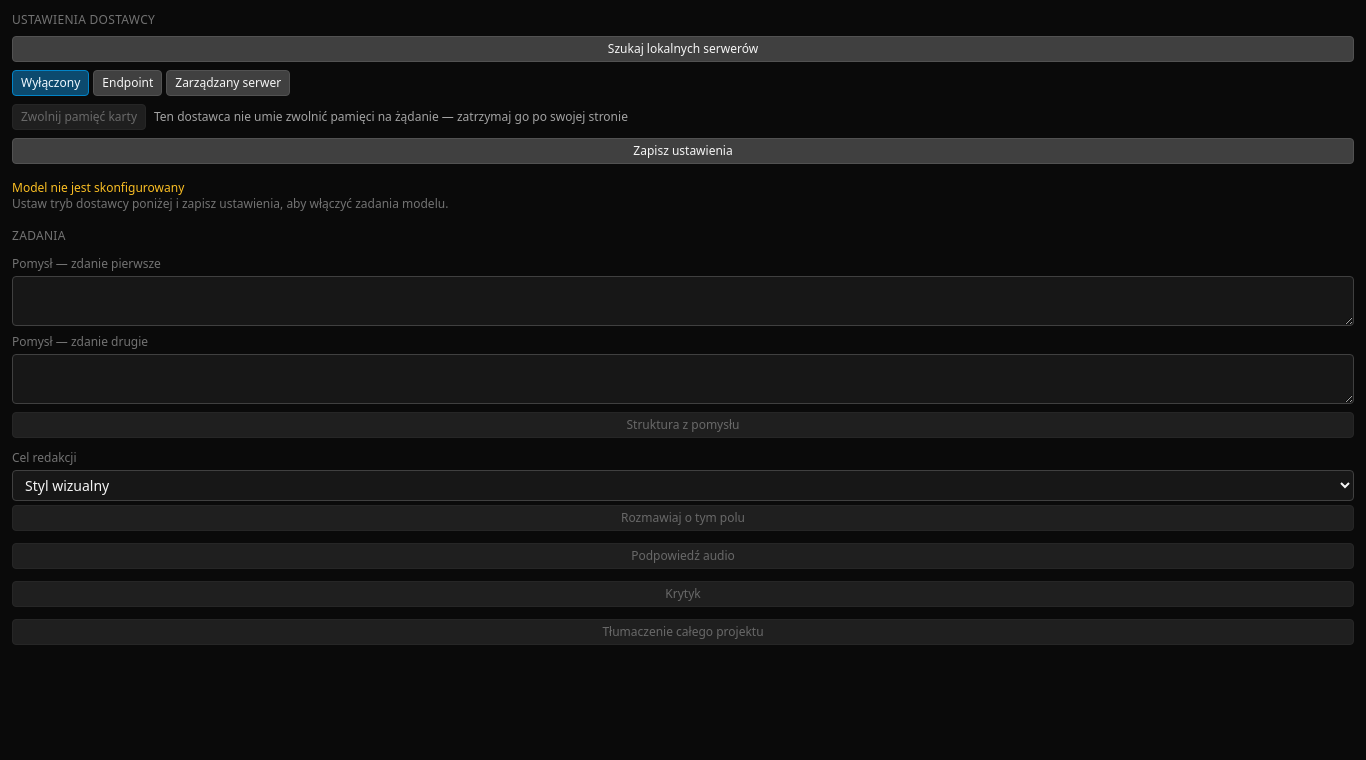
Test: LlmPanel — stan bez skonfigurowanego modelu › wpisanie adresu endpointu BEZ zapisania nie odblokowuje zadań ani nie chowa ostrzeżenia — dopiero zapis to robi
The width and height of the screenshot is (1366, 760).
Expected: the text "Model nie jest skonfigurowany" is shown, [12,179,184,196]
Click the button "Endpoint". click: [128, 83]
box: [93,70,162,96]
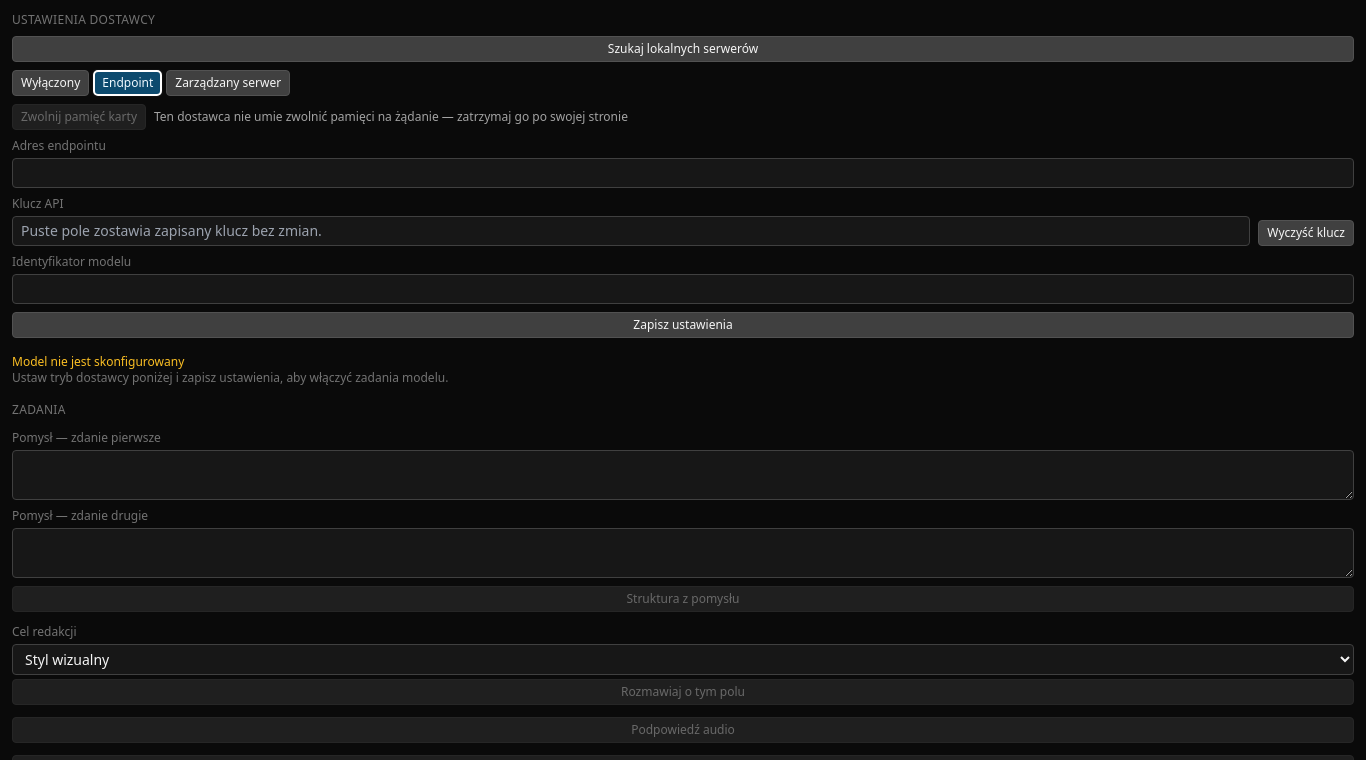
Type "http://localhost:1234/v1" into the field labelled "Adres endpointu". click: [683, 173]
box: [12,158,1354,188]
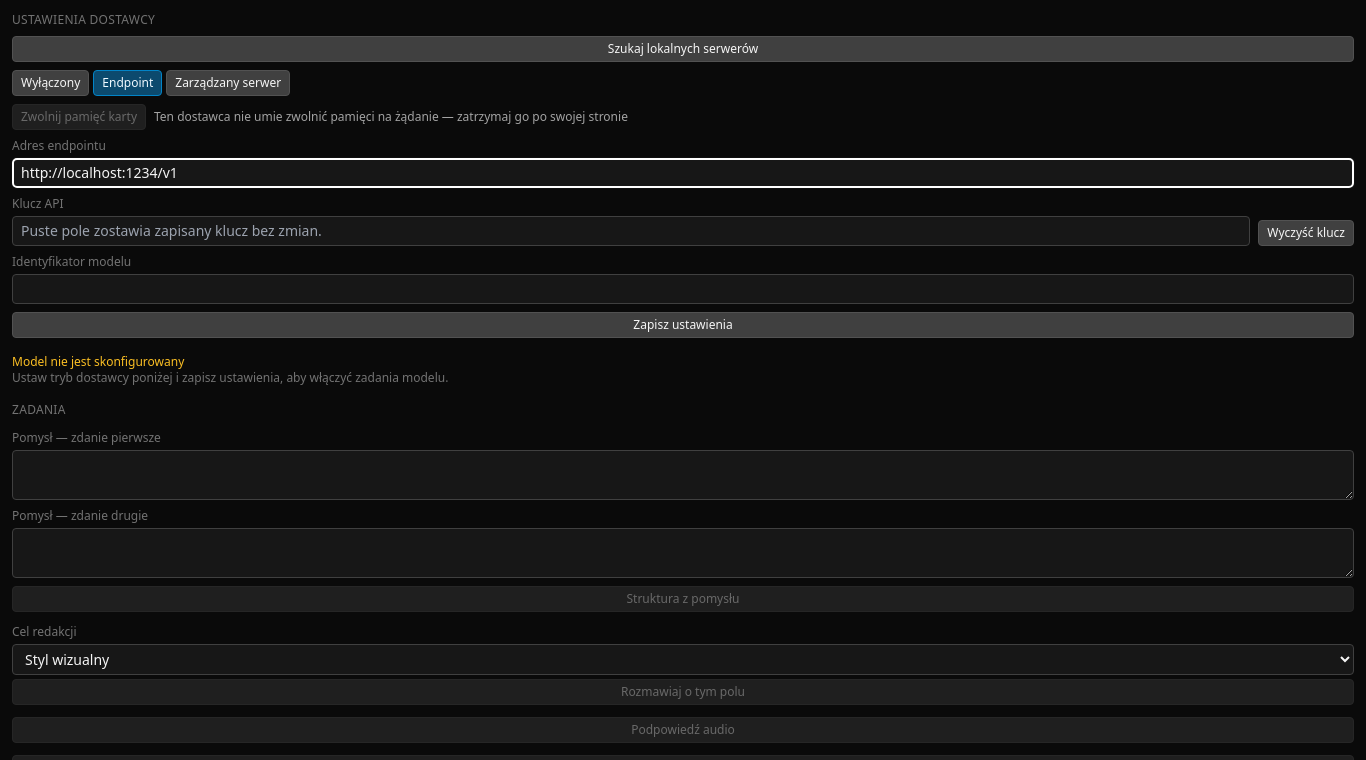
Expected: the text "Model nie jest skonfigurowany" is shown, [12,353,184,370]
Click the button "Zapisz ustawienia". click: [683, 325]
box: [12,312,1354,338]
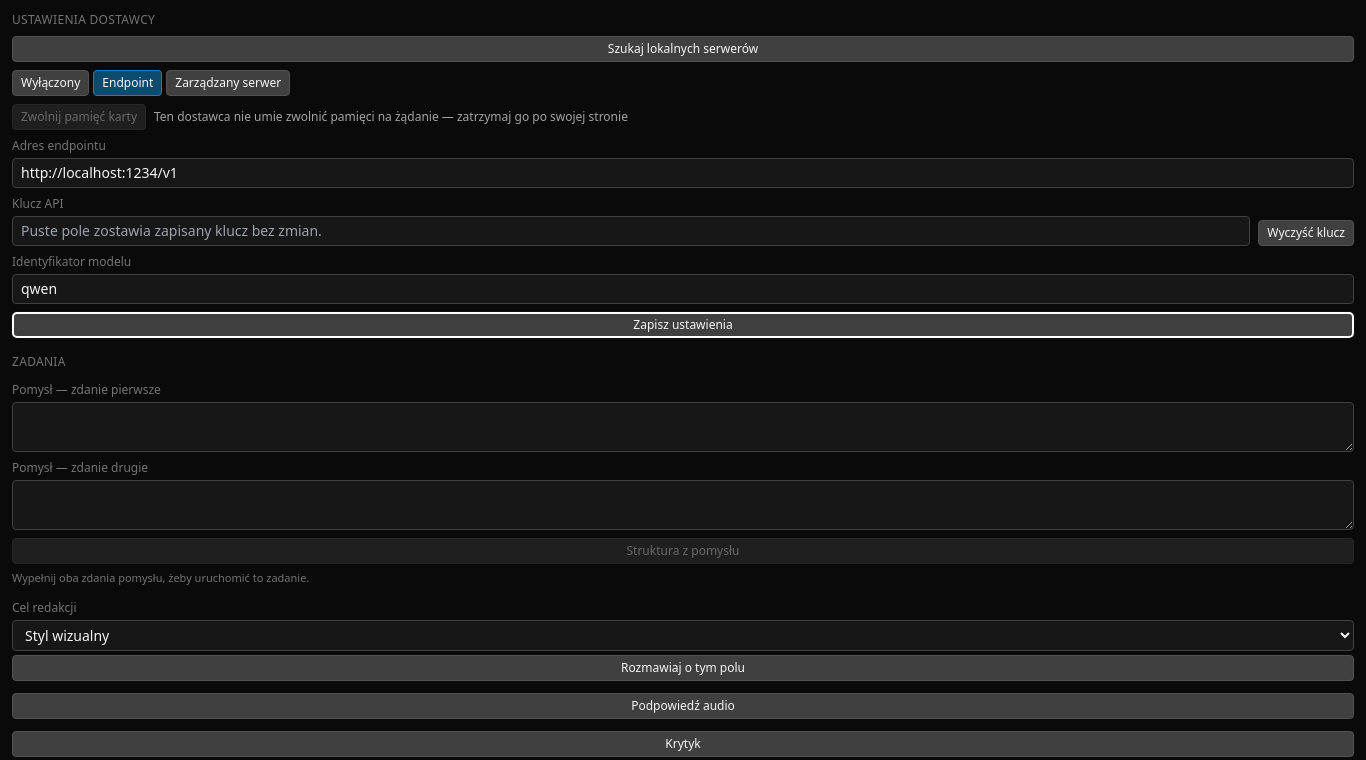
Expected: the text "Model nie jest skonfigurowany" is gone
